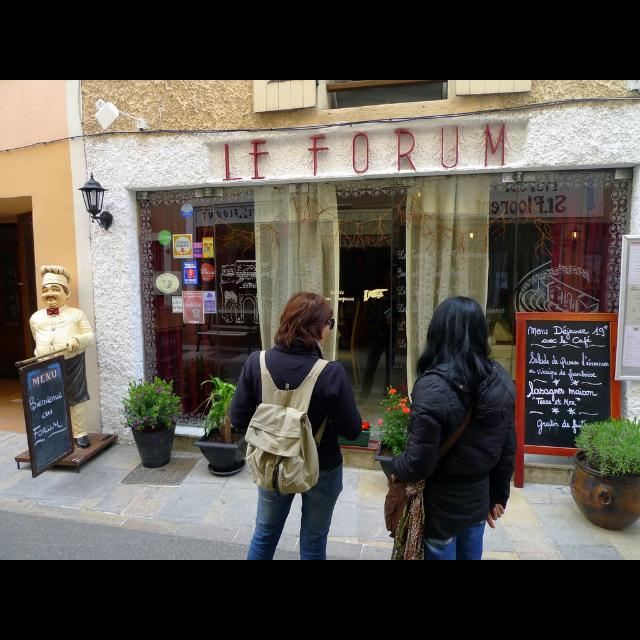Flower: (133, 417, 153, 429), (398, 400, 408, 414), (136, 390, 146, 396), (363, 424, 369, 431), (158, 388, 164, 392), (384, 408, 390, 412), (389, 390, 395, 394), (168, 416, 172, 420), (376, 420, 380, 424), (124, 425, 126, 429)
